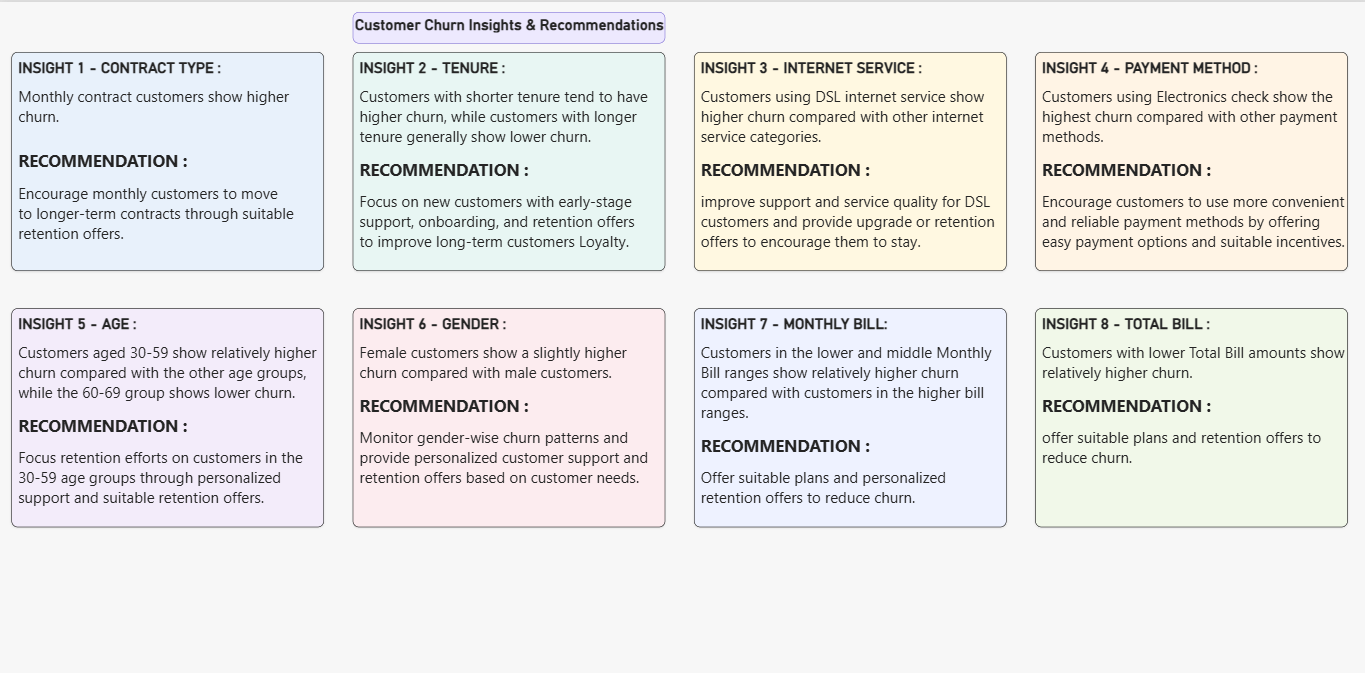

The dashboard page shown, as its layout file describes it:
{"tool":"powerbi","page":{"name":"Business Insights & Recommendations","canvas":[2191,1080],"ordinal":2},"visuals":[{"type":"textbox","title":"INSIGHT 1 - CONTRACT TYPE :","box":[20,80,500,350],"z":0},{"type":"textbox","title":"INSIGHT 2 - TENURE :","box":[566,80,500,350],"z":1},{"type":"textbox","title":"INSIGHT 3 - INTERNET SERVICE : ","box":[1112,80,500,350],"z":2},{"type":"textbox","title":"INSIGHT 4 - PAYMENT METHOD : ","box":[1658,80,500,350],"z":3},{"type":"textbox","title":"INSIGHT 5 - AGE :","box":[20,490,500,350],"z":4},{"type":"textbox","title":"INSIGHT  6 - GENDER : ","box":[566,490,500,350],"z":5},{"type":"textbox","title":"INSIGHT 7 - MONTHLY BILL:","box":[1112,490,500,350],"z":6},{"type":"textbox","title":"INSIGHT 8 - TOTAL BILL :","box":[1658,490,500,350],"z":7},{"type":"textbox","title":"Customer Churn Insights & Recommendations","box":[565,15,500,50],"z":8}]}

Visuals, with their boxes in screenshot pixels (x1, y1, x2, y2), scaled from the page's 2191x1080 canvas onto the 1365x673 screenshot:
"INSIGHT 1 - CONTRACT TYPE :" textbox: rect(12, 50, 324, 268)
"INSIGHT 2 - TENURE :" textbox: rect(353, 50, 664, 268)
"INSIGHT 3 - INTERNET SERVICE : " textbox: rect(693, 50, 1004, 268)
"INSIGHT 4 - PAYMENT METHOD : " textbox: rect(1033, 50, 1344, 268)
"INSIGHT 5 - AGE :" textbox: rect(12, 305, 324, 523)
"INSIGHT  6 - GENDER : " textbox: rect(353, 305, 664, 523)
"INSIGHT 7 - MONTHLY BILL:" textbox: rect(693, 305, 1004, 523)
"INSIGHT 8 - TOTAL BILL :" textbox: rect(1033, 305, 1344, 523)
"Customer Churn Insights & Recommendations" textbox: rect(352, 9, 663, 41)
